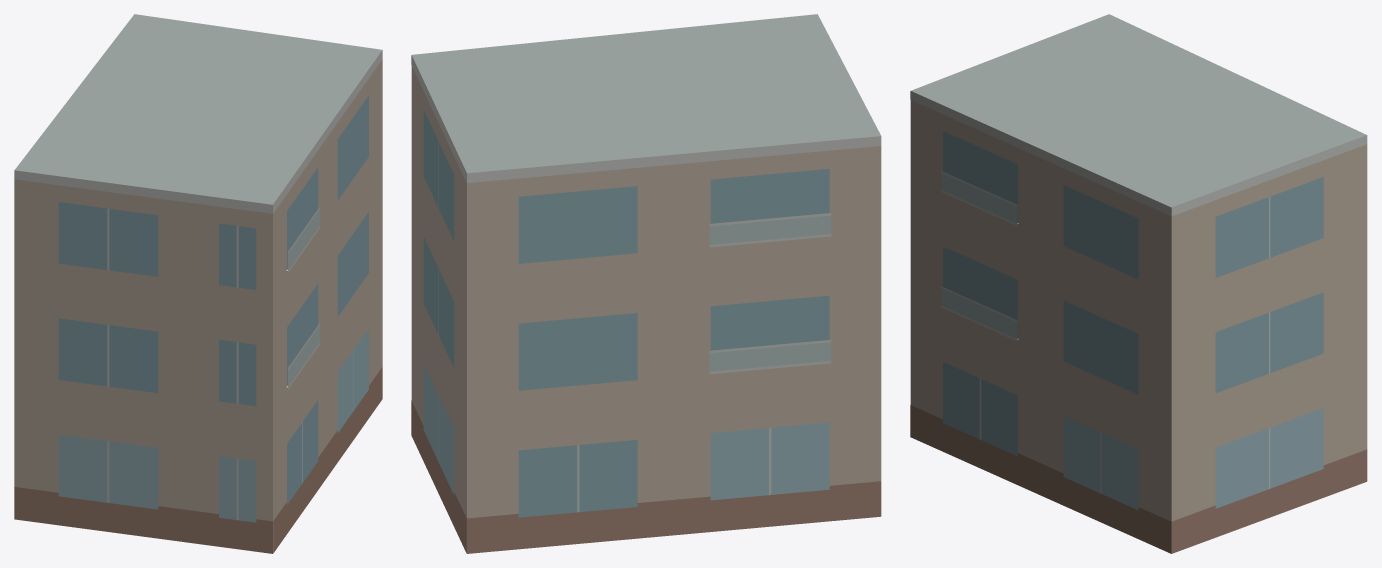
File: survey-upis-33021241.glb
3 renders of one model, left to right at view 1: azimuth 30°, elevation 25°; view 2: azimuth 150°, elevation 25°; view 3: azimuth 270°, elevation 25°, orthographic. The views are drawn at different scales.
Parts seen in each view (by area): view 1: survey-upis-33021241.tmp; view 2: survey-upis-33021241.tmp; view 3: survey-upis-33021241.tmp.
Boxes of the visible parts, x1,y1,x2,y2 form: survey-upis-33021241.tmp: (14,14,382,553); survey-upis-33021241.tmp: (411,14,881,553); survey-upis-33021241.tmp: (910,14,1367,553).
Bounding box in the file's own units: 11.27 × 9.4 × 11.24.
